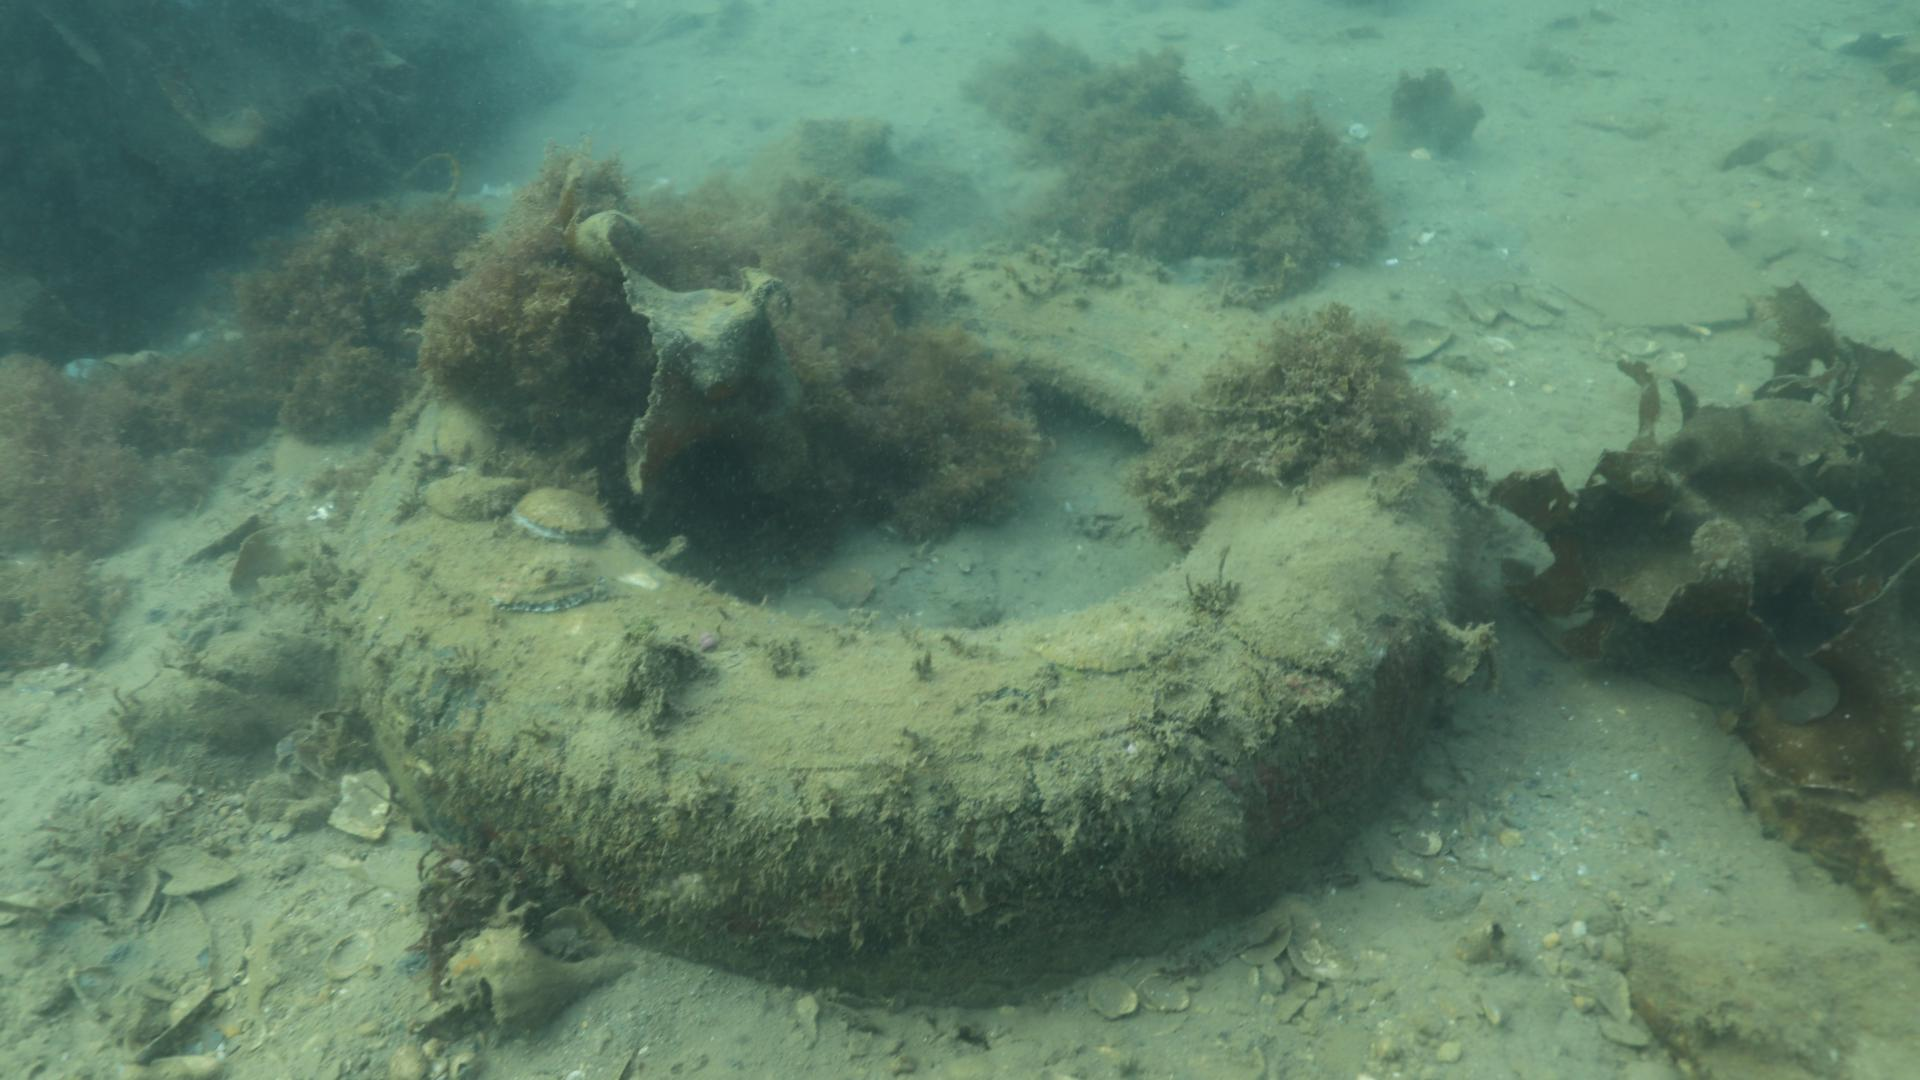tire: (334, 243, 1461, 1000)
